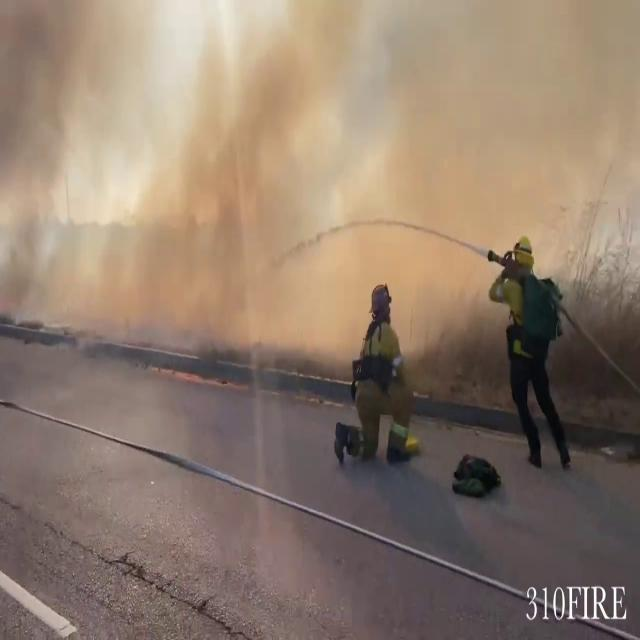Smoke: (1, 0, 636, 334)
